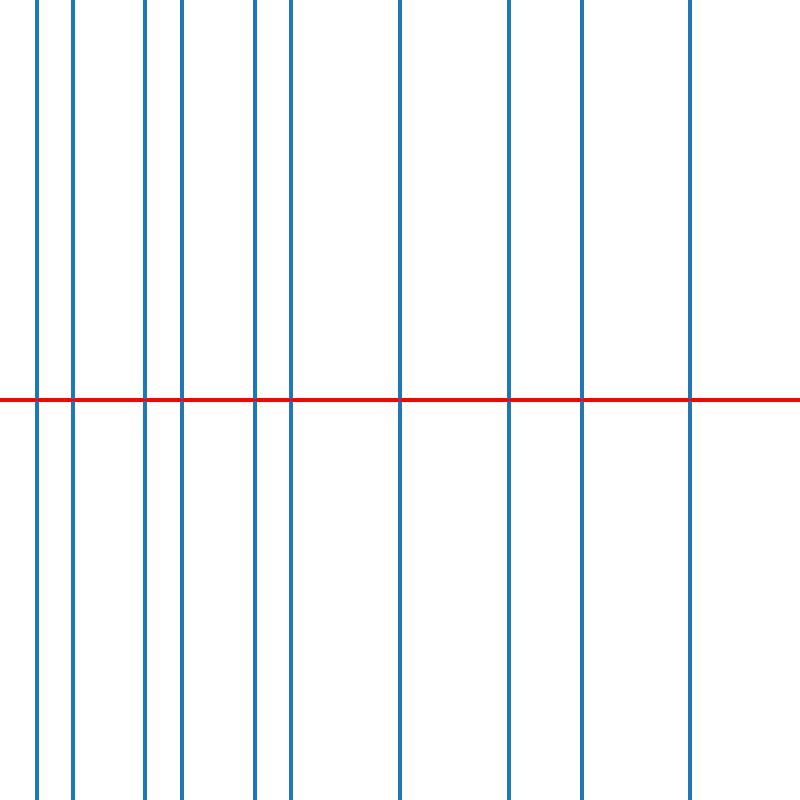root: (32, 396, 40, 404), (141, 396, 149, 404), (250, 396, 258, 404), (687, 396, 694, 404), (178, 396, 185, 404), (287, 396, 294, 404), (505, 396, 512, 404), (396, 396, 403, 404), (69, 396, 76, 404), (578, 396, 585, 404)
